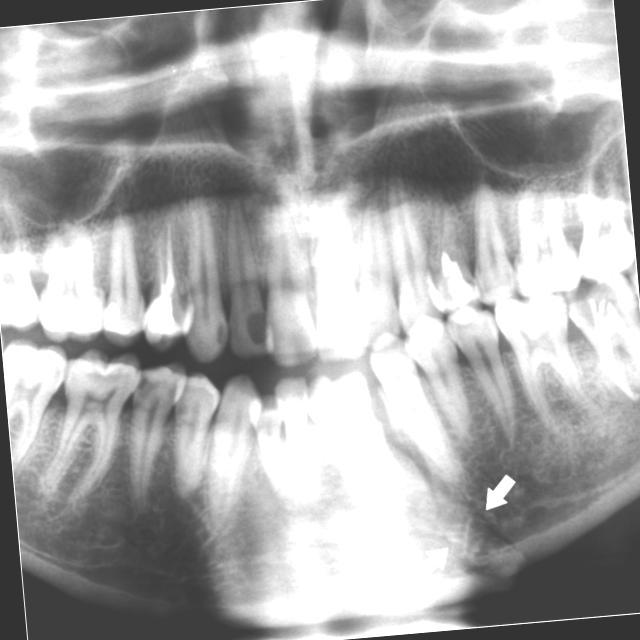Impact Fracture: (451, 479, 509, 551)
